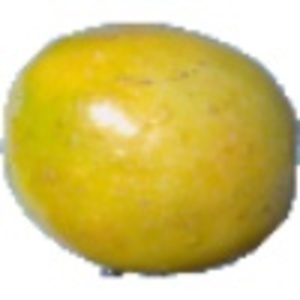maracujá: (1, 21, 300, 281)
